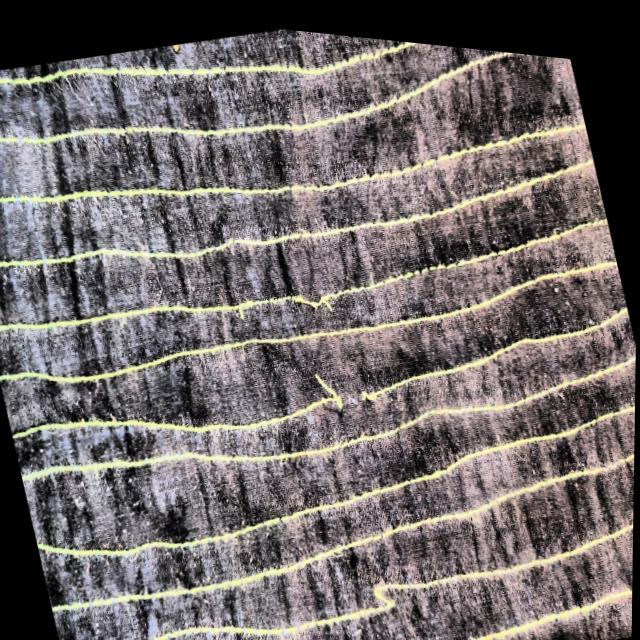Stitch: (301, 333, 391, 427), (280, 251, 347, 332), (361, 547, 414, 630)
